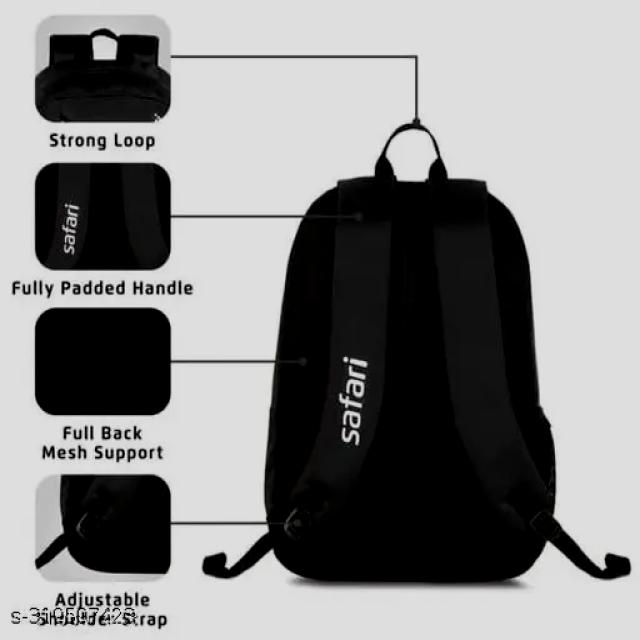backpack: (202, 120, 631, 585)
